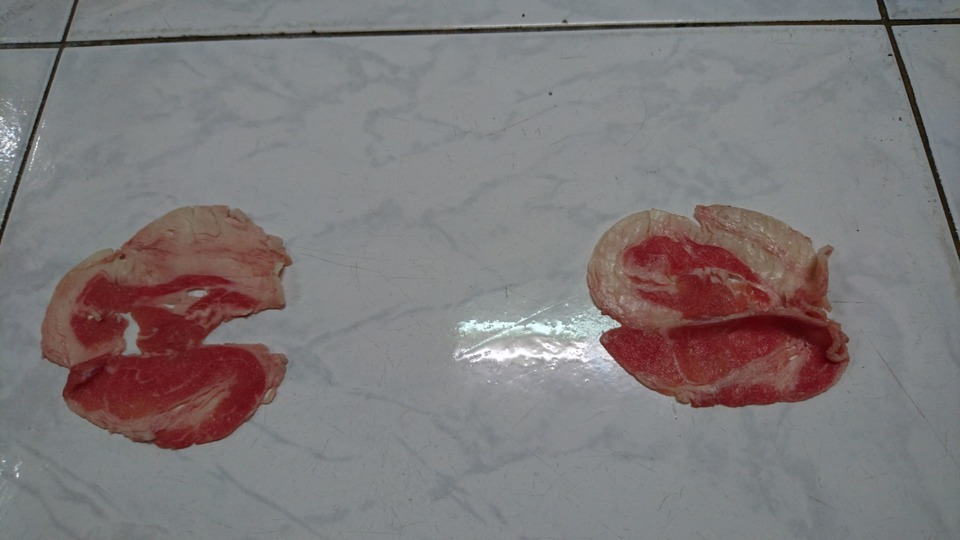restructured meat: (43, 205, 289, 453), (587, 193, 856, 411)
